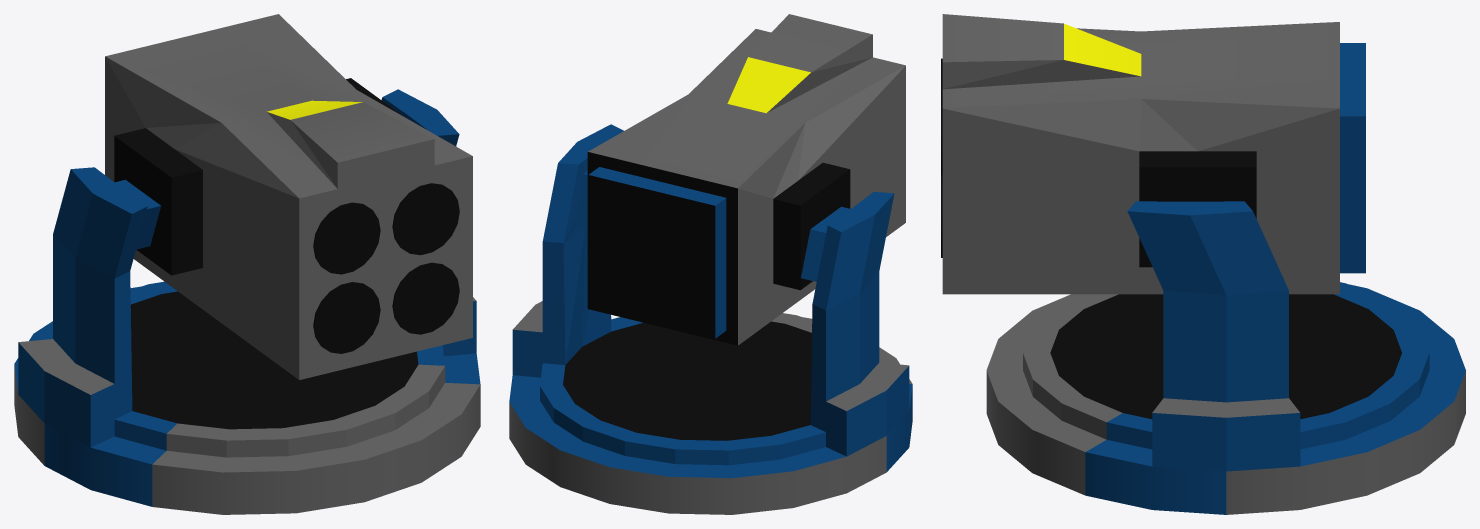
File: Turret.FBX
3 views of the same model, side by side, from view 1: azimuth 30°, elevation 25°; view 2: azimuth 150°, elevation 25°; view 3: azimuth 270°, elevation 25° (orthographic). The views are drawn at different scales.
Parts seen in each view (by area): view 1: Gun, Platform, Body, Cylinder002; view 2: Gun, Platform, Body; view 3: Gun, Platform, Body.
Part boxes in pixels (left/top/right/bottom): Gun: left=105, top=14, right=472, bottom=379; Platform: left=14, top=281, right=480, bottom=514; Body: left=53, top=89, right=459, bottom=418; Cylinder002: left=313, top=183, right=459, bottom=353; Gun: left=587, top=14, right=905, bottom=345; Platform: left=509, top=301, right=912, bottom=514; Body: left=542, top=124, right=894, bottom=431; Gun: left=942, top=14, right=1365, bottom=294; Platform: left=986, top=282, right=1465, bottom=514; Body: left=1127, top=201, right=1288, bottom=402.
Bounding box in the file's own units: 24.35 × 21.04 × 26.66.
